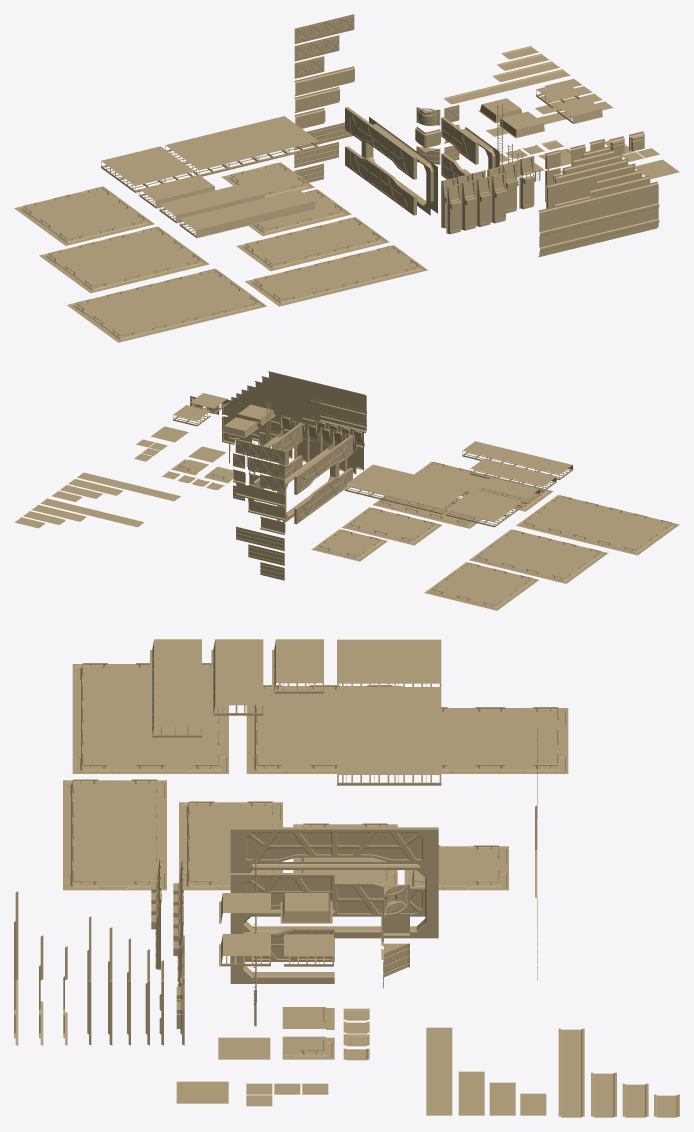
Rendered from Flight_deck.fbx.
The picture shows the model from 3 angles, top to bottom: view 1: azimuth 30°, elevation 25°; view 2: azimuth 150°, elevation 25°; view 3: azimuth 270°, elevation 25°; orthographic projection. The views are drawn at different scales.
Parts seen in each view (by area): view 1: FD_v2_11, FD_v2_10, FD_v6_13, FD_v2_8, FD_v5_6, FD_v2_9, FD_v2_7, FD_v5_7, FD_v7_5, FD_v5_5, FD_v5_8, FD_v1_6 (+26 smaller); view 2: FD_v2_11, FD_v2_10, FD_v5_6, FD_v2_9, FD_v6_13, FD_v2_6, FD_v5_5, FD_v5_7, FD_v2_8, FD_v2_5, FD_v5_8, FD_v2_7 (+25 smaller); view 3: FD_v2_11, FD_v2_8, FD_v5_6, FD_v2_9, FD_v2_10, FD_v1_6, FD_v2_7, FD_v5_7, FD_v5_5, FD_v1_4, FD_v5_8, FD_v2_5 (+24 smaller).
Boxes of the visible parts, left/top/right/bottom form: FD_v2_11: left=67, top=268, right=266, bottom=342; FD_v2_10: left=39, top=226, right=209, bottom=293; FD_v6_13: left=538, top=181, right=659, bottom=256; FD_v2_8: left=245, top=245, right=427, bottom=306; FD_v5_6: left=165, top=116, right=318, bottom=176; FD_v2_9: left=14, top=186, right=154, bottom=245; FD_v2_7: left=236, top=217, right=389, bottom=271; FD_v5_7: left=179, top=189, right=315, bottom=238; FD_v7_5: left=446, top=172, right=506, bottom=234; FD_v5_5: left=101, top=146, right=194, bottom=192; FD_v5_8: left=159, top=182, right=264, bottom=223; FD_v1_6: left=345, top=107, right=416, bottom=179; FD_v2_11: left=516, top=495, right=679, bottom=555; FD_v2_10: left=469, top=529, right=608, bottom=583; FD_v5_6: left=344, top=464, right=469, bottom=514; FD_v2_9: left=424, top=562, right=538, bottom=610; FD_v6_13: left=268, top=371, right=366, bottom=432; FD_v2_6: left=341, top=507, right=441, bottom=545; FD_v5_5: left=446, top=489, right=522, bottom=527; FD_v5_7: left=462, top=441, right=573, bottom=479; FD_v2_8: left=414, top=461, right=553, bottom=511; FD_v2_5: left=311, top=529, right=387, bottom=561; FD_v5_8: left=470, top=459, right=556, bottom=491; FD_v2_7: left=373, top=496, right=482, bottom=528; FD_v2_11: left=72, top=663, right=228, bottom=773; FD_v2_8: left=63, top=779, right=166, bottom=890; FD_v5_6: left=337, top=687, right=441, bottom=785; FD_v2_9: left=441, top=707, right=568, bottom=773; FD_v2_10: left=246, top=685, right=402, bottom=773; FD_v1_6: left=230, top=827, right=438, bottom=861; FD_v2_7: left=179, top=801, right=282, bottom=890; FD_v5_7: left=150, top=639, right=201, bottom=737; FD_v5_5: left=337, top=639, right=441, bottom=686; FD_v1_4: left=230, top=862, right=438, bottom=938; FD_v5_8: left=211, top=639, right=263, bottom=715; FD_v2_5: left=404, top=845, right=508, bottom=890.
Bounding box in the file's own units: 124 × 30.31 × 76.79.
